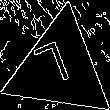L_S: (37, 39, 82, 97)
